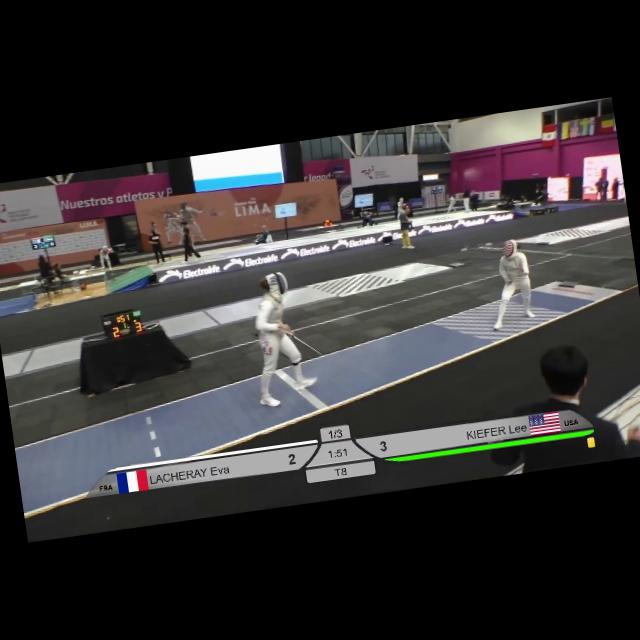blade: (290, 327, 324, 361)
